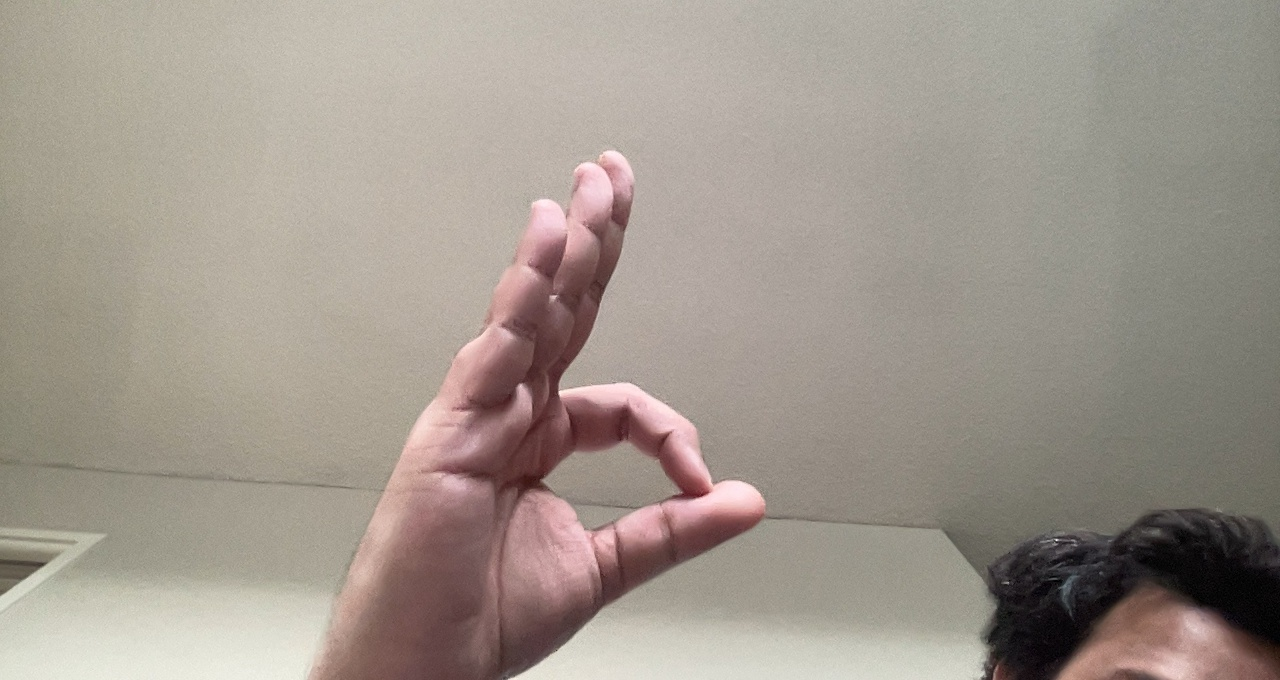ok: (324, 141, 768, 675)
